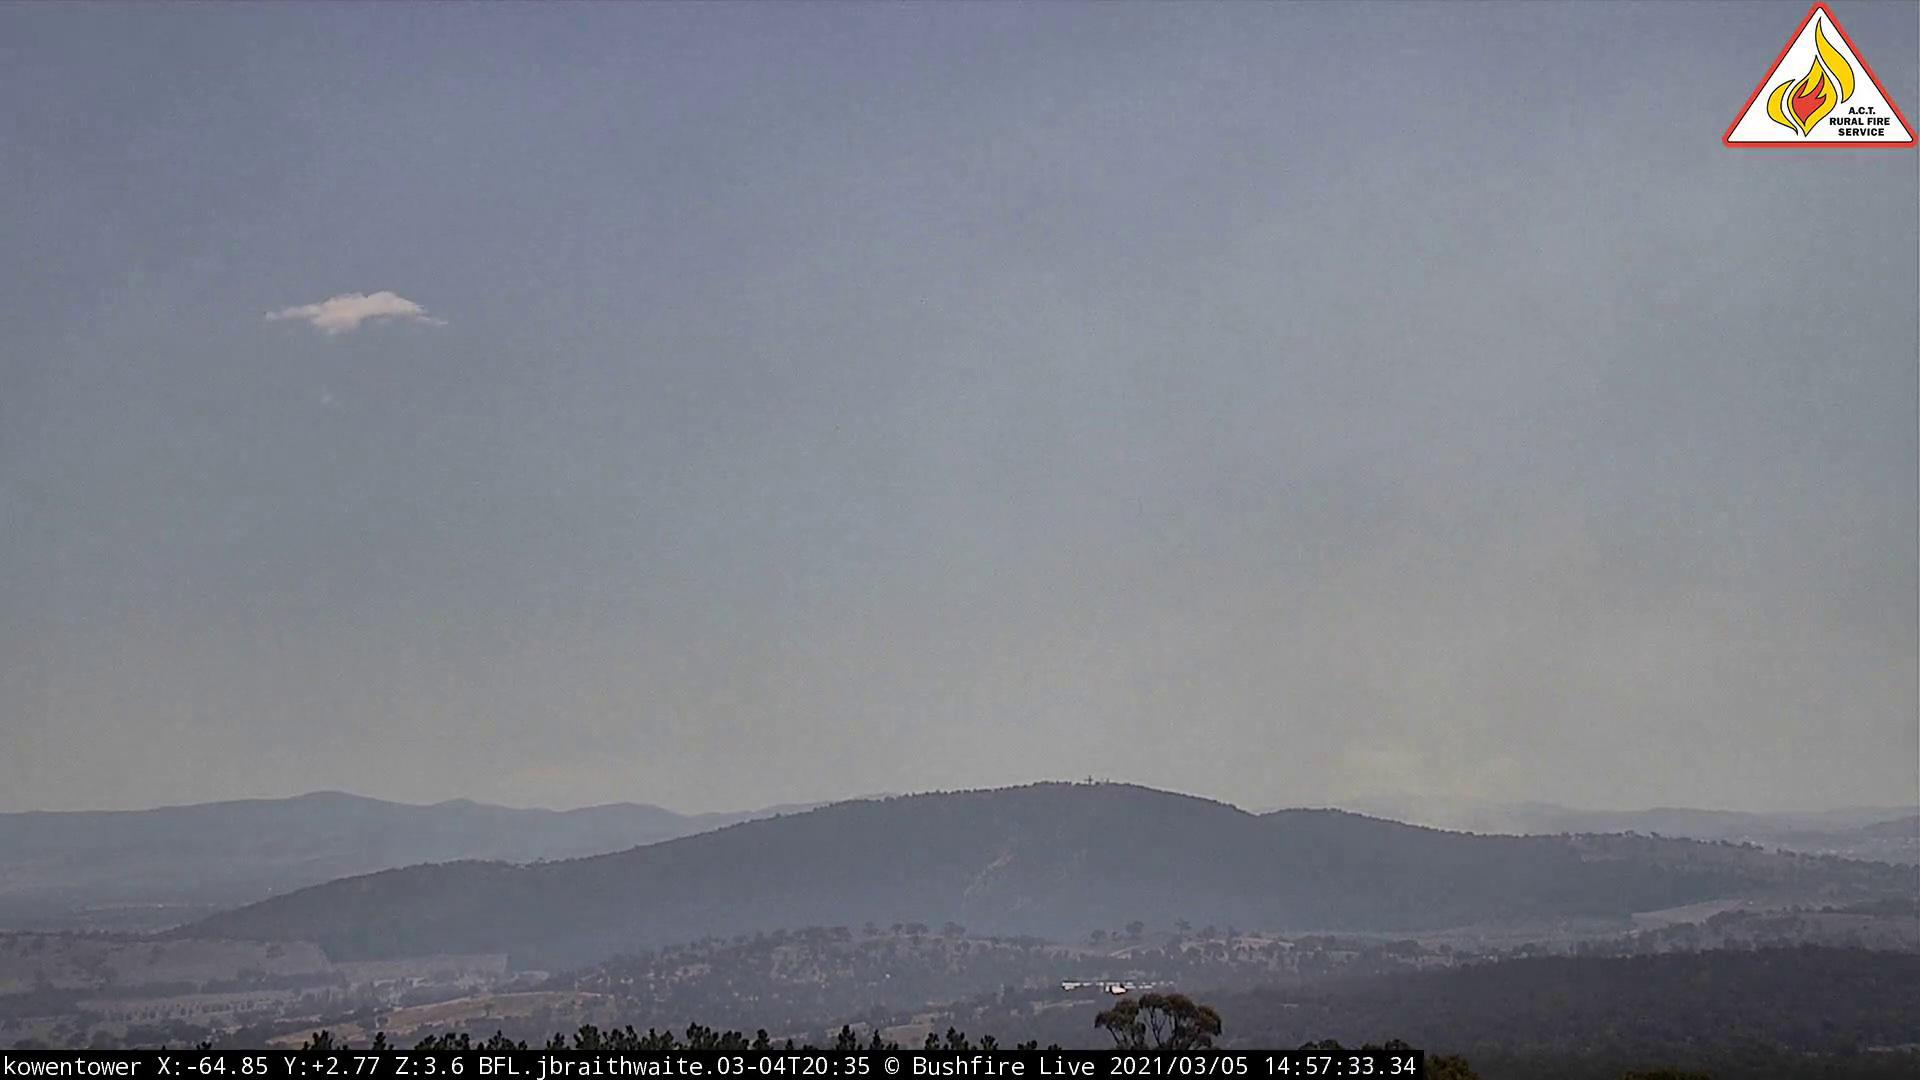Smoke: (1142, 546, 1841, 844)
